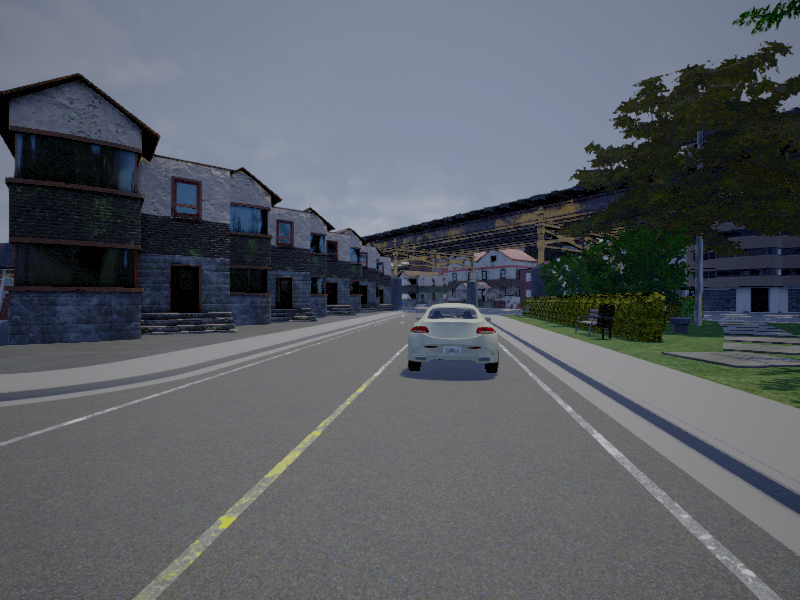Benign: (412, 303, 501, 374)
